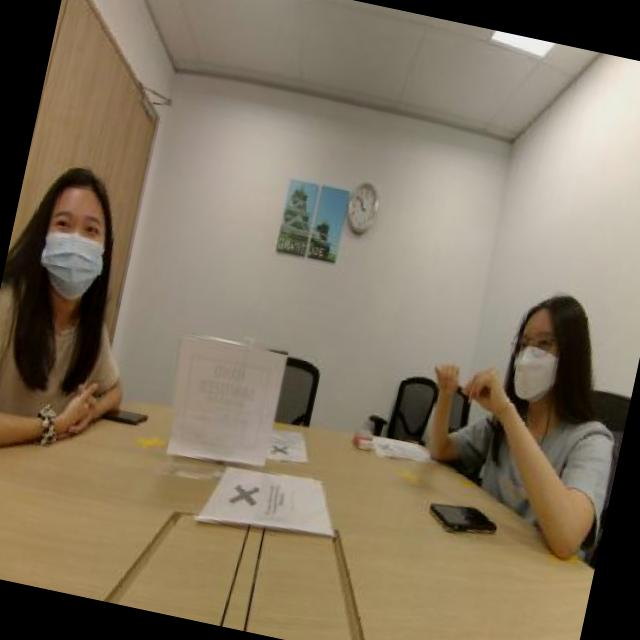Person: (0, 121, 157, 413), (444, 266, 614, 518)
